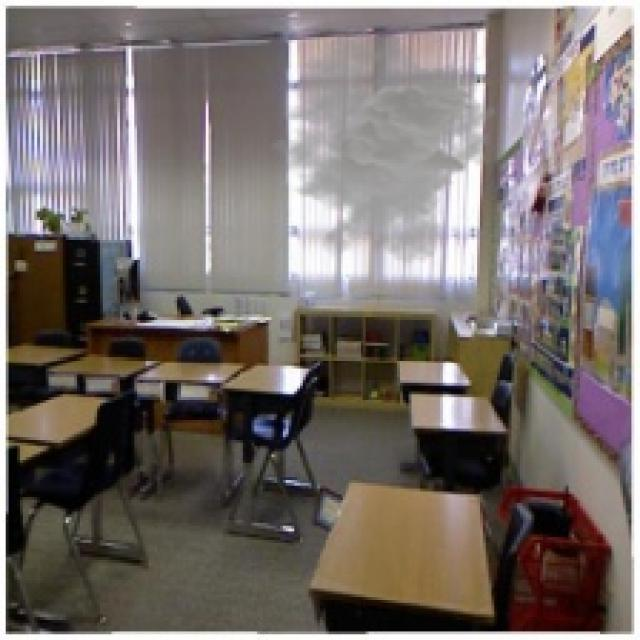Smoke: (260, 31, 500, 266)
